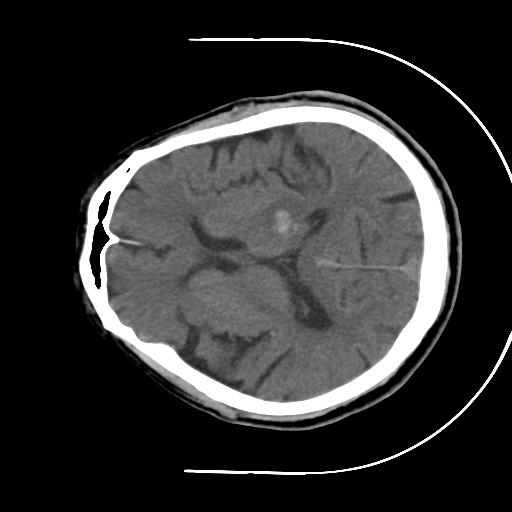a: (250, 189, 318, 253)
